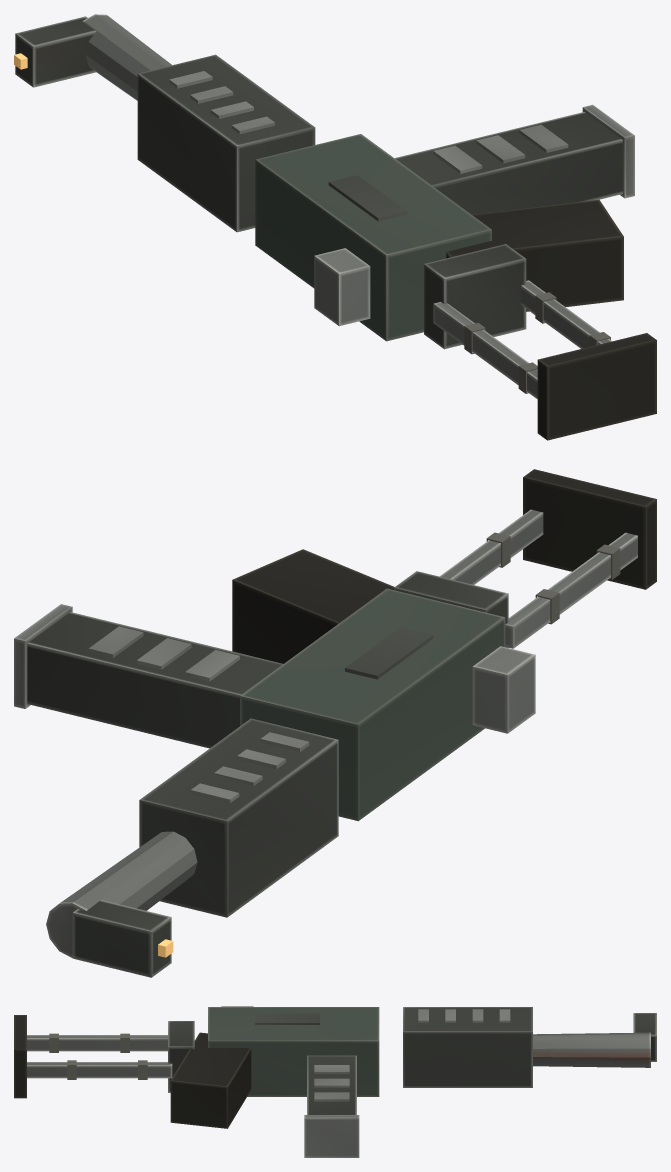
The picture shows the model from 3 angles, top to bottom: view 1: azimuth 30°, elevation 25°; view 2: azimuth 150°, elevation 25°; view 3: azimuth 270°, elevation 25°; orthographic projection. The views are drawn at different scales.
Parts seen in each view (by area): view 1: smgCompactFrame, smgCompactReceiver, smgOpenStock, smgStickMagazine, frissonWeaponDress; view 2: smgCompactFrame, smgCompactReceiver, smgOpenStock, smgStickMagazine, frissonWeaponDress; view 3: smgCompactFrame, smgCompactReceiver, smgOpenStock, smgStickMagazine, frissonWeaponDress.
Part boxes in pixels (x1,y1,x2,y2): smgCompactFrame: (14, 14, 634, 326); smgCompactReceiver: (255, 134, 491, 341); smgOpenStock: (424, 244, 656, 440); smgStickMagazine: (394, 112, 622, 214); frissonWeaponDress: (464, 292, 610, 393); smgCompactFrame: (14, 549, 535, 977); smgCompactReceiver: (240, 588, 505, 821); smgOpenStock: (394, 469, 656, 648); smgStickMagazine: (27, 612, 282, 748); frissonWeaponDress: (486, 532, 620, 624); smgCompactFrame: (170, 1006, 656, 1157); smgCompactReceiver: (208, 1007, 379, 1096); smgOpenStock: (14, 1015, 194, 1098); smgStickMagazine: (307, 1055, 356, 1114); frissonWeaponDress: (49, 1033, 147, 1079).
Bounding box in the file's own units: 0.3308 × 0.0817 × 0.7834.
